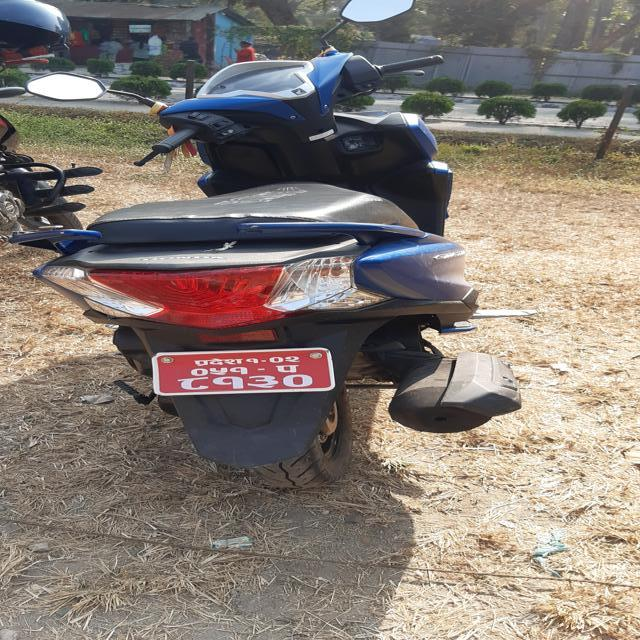license_plate: (152, 317, 334, 419)
